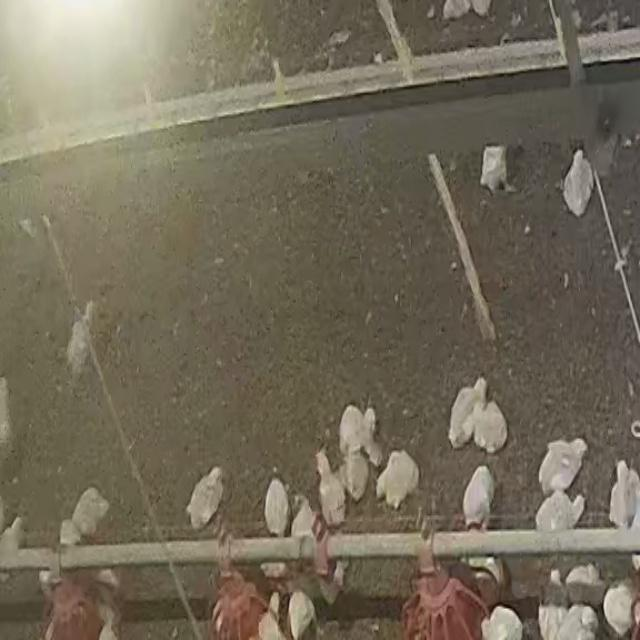chicken: (441, 378, 488, 453), (338, 404, 383, 469), (553, 149, 594, 220), (62, 298, 100, 374), (538, 437, 588, 493), (376, 449, 419, 510), (185, 467, 223, 531), (535, 488, 586, 533), (535, 567, 567, 637), (315, 451, 346, 523), (608, 460, 640, 529), (70, 486, 110, 541), (479, 140, 518, 194), (464, 463, 496, 525), (602, 582, 635, 636), (564, 562, 604, 606), (475, 399, 504, 455), (480, 604, 524, 640), (553, 607, 601, 640), (264, 477, 290, 535), (341, 451, 370, 502), (287, 588, 316, 638), (257, 589, 284, 639), (0, 514, 30, 553), (292, 496, 316, 540), (59, 519, 83, 546), (441, 0, 470, 20), (461, 0, 493, 18)
